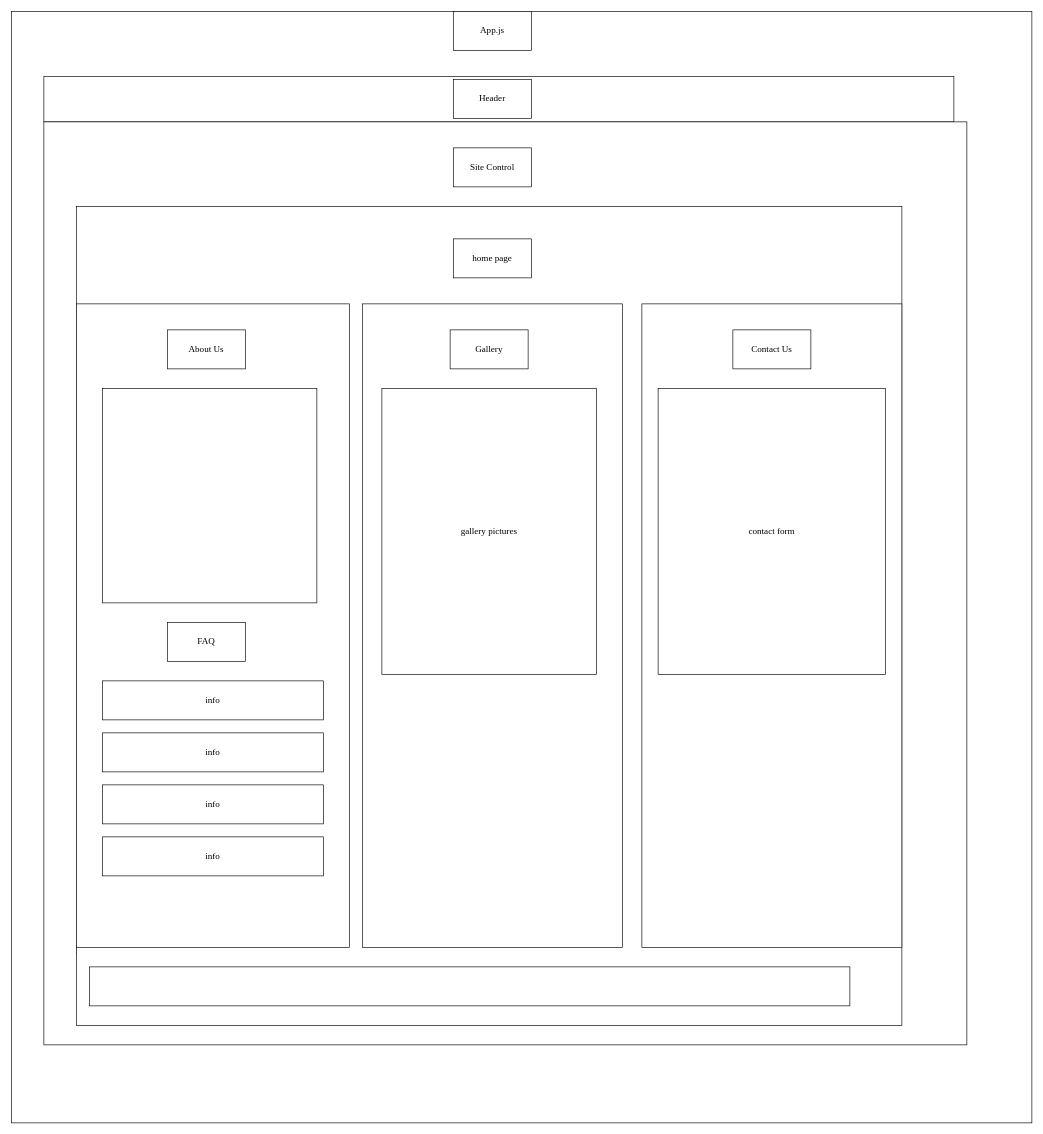
The diagram is 1043 pixels wide and 1134 high, and some of its shapes have lost their labels. The shapes that lost their labels are listed below. From the top down, each one's centre as x and y in pixels, then its label:
the point at 209,495: about us info
the point at 469,986: Footer
